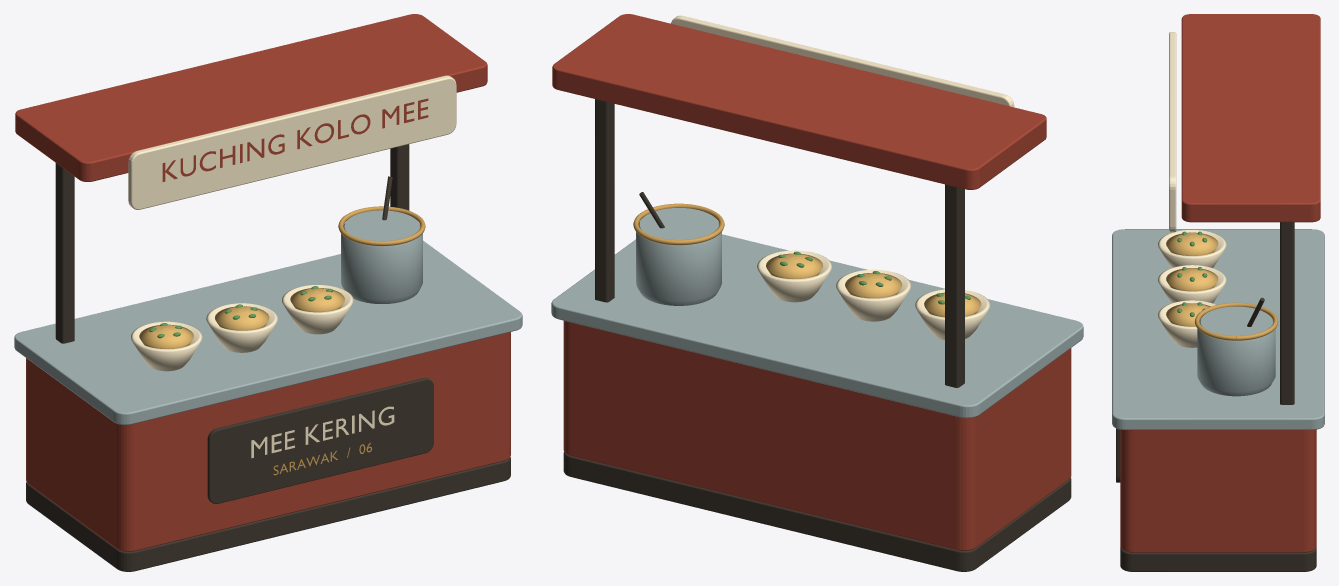
3 views of the same model, side by side, from view 1: azimuth 30°, elevation 25°; view 2: azimuth 150°, elevation 25°; view 3: azimuth 270°, elevation 25° (orthographic). The views are drawn at different scales.
Parts seen in each view (by area): view 1: Kuching | Kolo Mee Stall - Cabinetry, Kuching | Kolo Mee Stall - Graphics, Kuching | Kolo Mee Stall - Turned fittings, Kuching | Kolo Mee Stall - Structure; view 2: Kuching | Kolo Mee Stall - Cabinetry, Kuching | Kolo Mee Stall - Turned fittings, Kuching | Kolo Mee Stall - Structure, Kuching | Kolo Mee Stall - Graphics; view 3: Kuching | Kolo Mee Stall - Cabinetry, Kuching | Kolo Mee Stall - Turned fittings, Kuching | Kolo Mee Stall - Structure, Kuching | Kolo Mee Stall - Graphics, Kuching | Kolo Mee Stall - Sculpture.
Part boxes in pixels (x1=…): Kuching | Kolo Mee Stall - Cabinetry: x1=14, y1=14, x2=522, y2=571; Kuching | Kolo Mee Stall - Graphics: x1=128, y1=75, x2=456, y2=503; Kuching | Kolo Mee Stall - Turned fittings: x1=131, y1=206, x2=425, y2=371; Kuching | Kolo Mee Stall - Structure: x1=55, y1=144, x2=409, y2=343; Kuching | Kolo Mee Stall - Cabinetry: x1=551, y1=14, x2=1083, y2=571; Kuching | Kolo Mee Stall - Turned fittings: x1=633, y1=203, x2=990, y2=339; Kuching | Kolo Mee Stall - Structure: x1=595, y1=99, x2=964, y2=387; Kuching | Kolo Mee Stall - Graphics: x1=671, y1=15, x2=1014, y2=107; Kuching | Kolo Mee Stall - Cabinetry: x1=1112, y1=14, x2=1324, y2=571; Kuching | Kolo Mee Stall - Turned fittings: x1=1158, y1=230, x2=1278, y2=396; Kuching | Kolo Mee Stall - Structure: x1=1280, y1=222, x2=1294, y2=404; Kuching | Kolo Mee Stall - Graphics: x1=1116, y1=32, x2=1176, y2=482; Kuching | Kolo Mee Stall - Sculpture: x1=1177, y1=231, x2=1207, y2=316.
Size of the model in its own units: 2.75 by 2.54 by 1.3.
